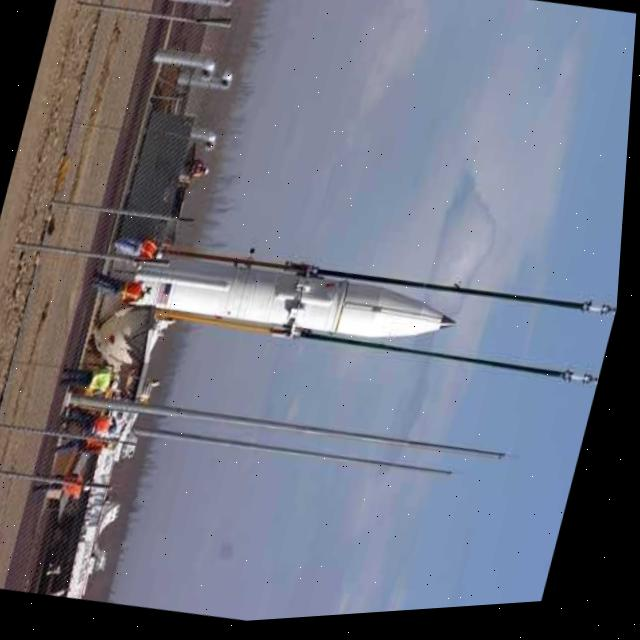missile: (96, 219, 475, 388)
